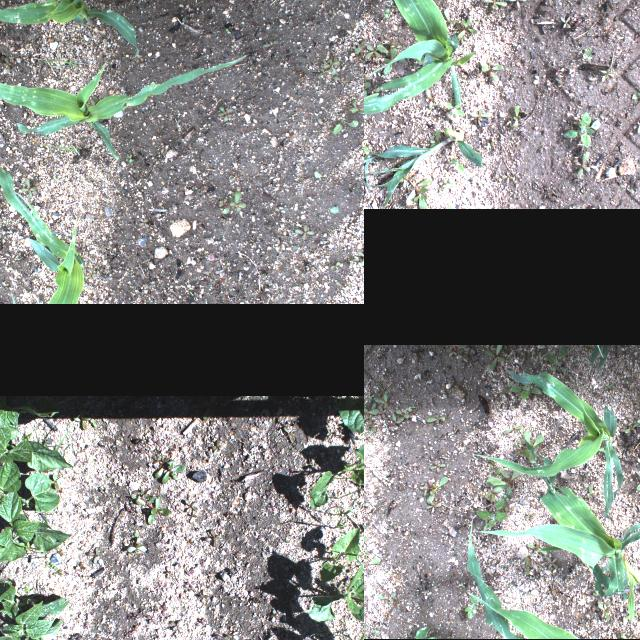crop: (0, 56, 244, 160), (476, 474, 640, 623), (470, 370, 622, 520), (364, 0, 475, 138), (466, 520, 580, 638), (0, 166, 85, 304), (364, 129, 481, 209), (0, 0, 137, 57), (309, 437, 364, 515), (0, 576, 66, 640), (0, 458, 62, 520), (302, 562, 364, 623), (477, 345, 625, 369), (0, 520, 75, 563), (0, 399, 56, 453), (0, 438, 70, 471), (325, 398, 364, 442), (10, 288, 16, 304)
weed: (322, 526, 362, 584), (151, 450, 187, 488), (562, 112, 598, 148), (398, 175, 432, 209), (474, 497, 506, 529), (136, 496, 170, 526), (515, 431, 543, 464), (483, 470, 519, 494), (544, 345, 566, 373), (124, 529, 148, 553), (510, 382, 542, 400), (376, 44, 404, 64), (478, 60, 502, 82), (483, 345, 504, 369), (456, 16, 476, 40), (332, 118, 358, 136), (200, 530, 223, 550), (574, 151, 590, 179), (317, 60, 339, 80), (69, 416, 99, 430), (383, 47, 397, 75), (19, 178, 37, 198), (229, 190, 245, 212), (441, 102, 465, 116), (413, 625, 437, 639), (394, 405, 412, 423), (430, 477, 448, 495), (293, 224, 313, 240), (38, 58, 78, 66), (86, 544, 102, 564), (597, 600, 613, 620), (630, 76, 640, 107), (463, 599, 477, 621), (50, 146, 80, 156), (470, 109, 492, 121), (487, 464, 509, 476), (216, 106, 232, 122), (544, 555, 560, 571), (364, 550, 381, 565), (376, 592, 396, 604), (364, 623, 381, 637), (364, 415, 376, 434), (481, 0, 506, 9), (364, 43, 379, 58), (598, 68, 614, 82), (437, 180, 453, 194), (500, 380, 516, 394), (500, 425, 522, 435), (350, 98, 364, 113), (526, 544, 546, 554), (424, 413, 446, 422), (440, 9, 454, 23), (513, 106, 521, 130), (372, 397, 388, 409), (430, 130, 440, 148), (369, 408, 387, 418), (429, 463, 447, 473), (634, 461, 640, 490), (578, 50, 592, 62), (452, 158, 464, 172), (364, 71, 370, 99), (524, 510, 538, 522), (376, 383, 388, 397), (353, 39, 364, 54), (218, 197, 228, 213), (424, 89, 432, 109), (356, 521, 364, 541), (585, 479, 593, 499), (424, 503, 440, 513), (507, 0, 526, 8), (619, 184, 635, 193), (501, 172, 513, 184), (364, 132, 370, 156), (616, 632, 640, 638), (624, 423, 638, 433), (356, 247, 364, 264), (3, 56, 11, 72), (523, 558, 531, 574), (344, 257, 356, 267), (560, 16, 570, 28), (483, 490, 495, 500), (455, 351, 467, 361), (364, 401, 374, 413), (388, 518, 398, 530), (598, 600, 612, 608), (261, 40, 277, 46), (306, 20, 318, 28), (420, 482, 428, 494), (500, 493, 510, 502), (539, 345, 546, 357), (364, 430, 371, 442), (329, 206, 339, 214), (298, 143, 308, 151), (446, 348, 454, 358), (125, 155, 134, 163), (86, 274, 98, 280), (390, 404, 394, 422), (328, 262, 339, 268), (313, 171, 321, 179), (636, 117, 640, 132), (384, 8, 390, 18), (290, 244, 298, 250), (426, 496, 434, 502), (54, 176, 60, 182), (334, 280, 340, 286), (224, 26, 228, 34), (88, 266, 96, 270), (637, 412, 640, 422), (364, 534, 367, 544), (317, 118, 321, 124), (189, 291, 193, 297), (361, 55, 364, 61), (3, 220, 9, 223), (448, 206, 454, 208)
